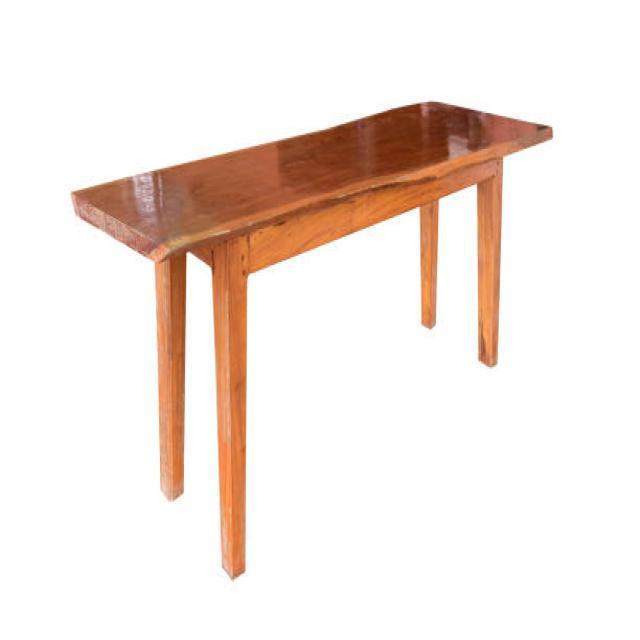table: (70, 97, 553, 579)
